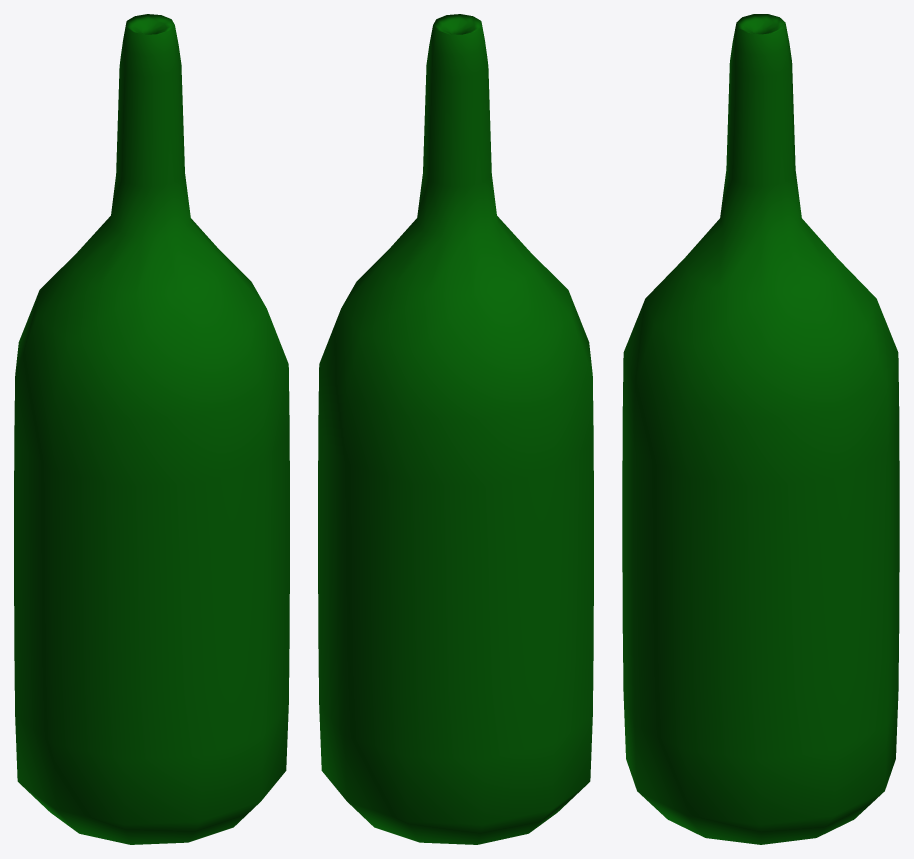
File: beer galss.fbx
The picture shows the model from 3 angles, left to right: view 1: azimuth 30°, elevation 25°; view 2: azimuth 150°, elevation 25°; view 3: azimuth 270°, elevation 25°; orthographic projection.
Visible parts, largest first — view 1: bottle; view 2: bottle; view 3: bottle.
Part boxes in pixels (x1,y1,x2,y2): bottle: (14, 14, 289, 844); bottle: (318, 14, 593, 844); bottle: (622, 14, 899, 844).
Size of the model in its own units: 0.6378 by 2.02 by 0.6444.
